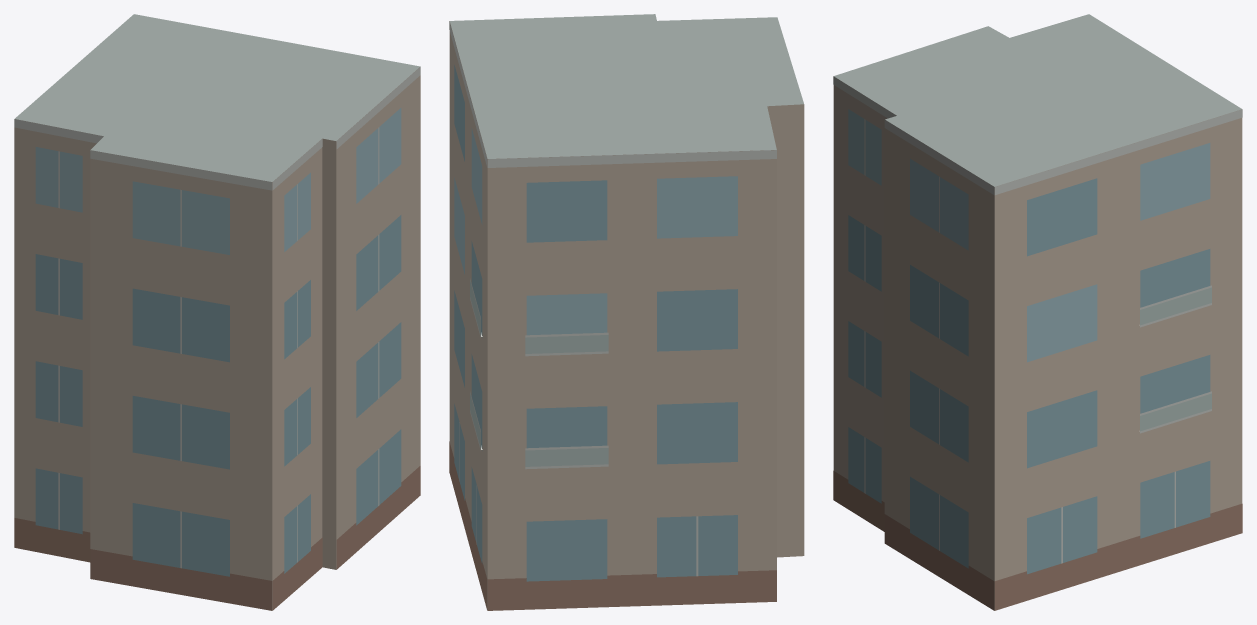
File: survey-upis-32787837.glb
The picture shows the model from 3 angles, left to right: view 1: azimuth 30°, elevation 25°; view 2: azimuth 150°, elevation 25°; view 3: azimuth 270°, elevation 25°; orthographic projection. The views are drawn at different scales.
Visible parts, largest first — view 1: survey-upis-32787837.tmp; view 2: survey-upis-32787837.tmp; view 3: survey-upis-32787837.tmp.
Boxes of the visible parts, left/top/right/bottom form: survey-upis-32787837.tmp: left=14, top=14, right=420, bottom=610; survey-upis-32787837.tmp: left=449, top=14, right=804, bottom=610; survey-upis-32787837.tmp: left=833, top=14, right=1242, bottom=610.
Size of the model in its own units: 10.68 by 12.2 by 10.67.
